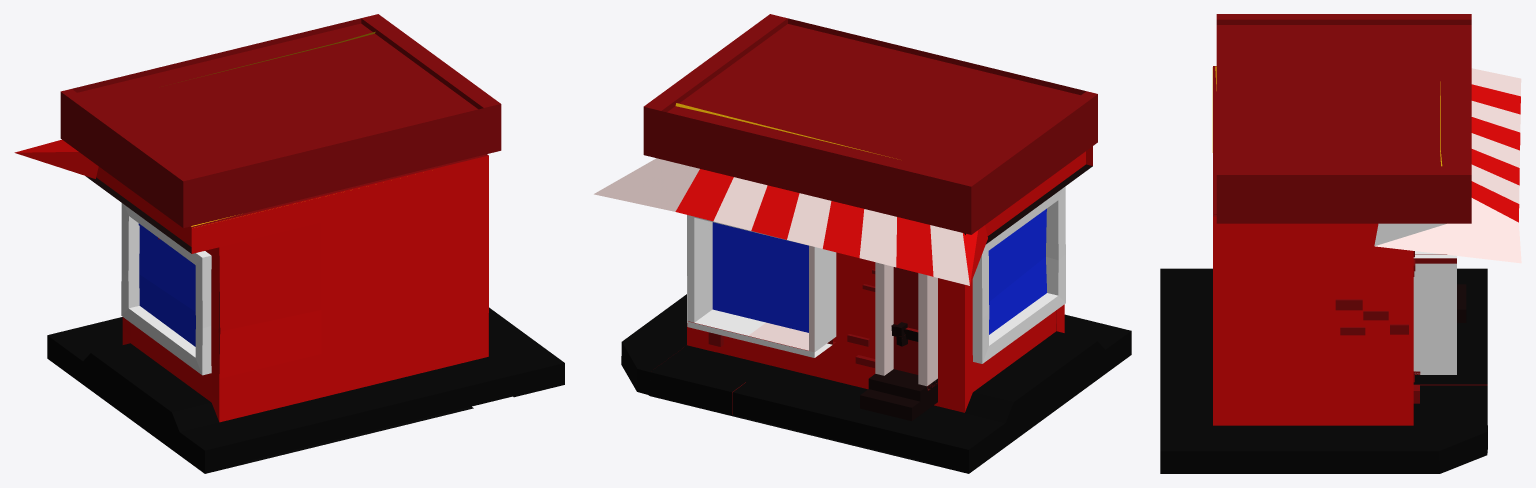
File: houseeeobj.obj
3 renders of one model, left to right at view 1: azimuth 30°, elevation 25°; view 2: azimuth 150°, elevation 25°; view 3: azimuth 270°, elevation 25°, orthographic. The views are drawn at different scales.
Visible parts, largest first — view 1: Cube.002; view 2: Cube.002; view 3: Cube.002.
Boxes of the visible parts, x1,y1,x2,y2 form: Cube.002: (14,14,564,473); Cube.002: (594,14,1131,473); Cube.002: (1160,14,1521,473).
Bounding box in the file's own units: 13.63 × 9.38 × 10.9.
